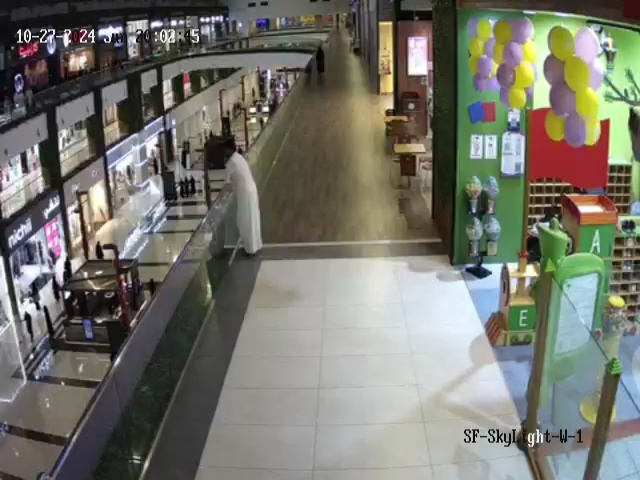female: (17, 308, 42, 355), (43, 268, 66, 309), (60, 249, 77, 287), (178, 171, 198, 201), (92, 234, 107, 268), (314, 39, 325, 85)
male: (207, 136, 263, 258)
